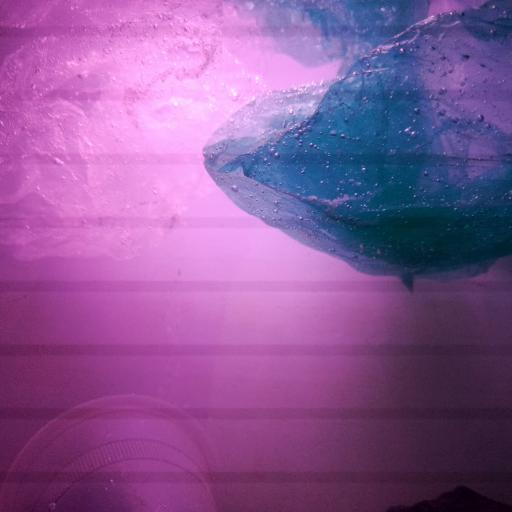plastic_bag: (199, 0, 512, 296), (0, 10, 269, 262)
plastic_cup: (1, 390, 226, 512)
